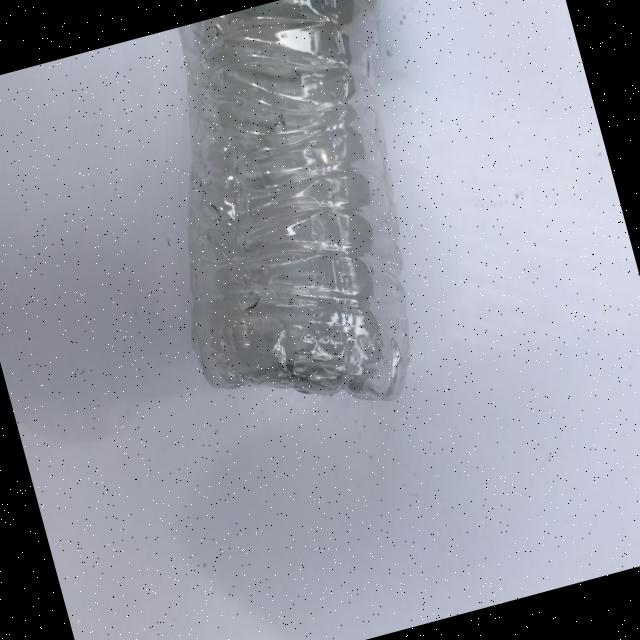plastic: (111, 0, 486, 446)
